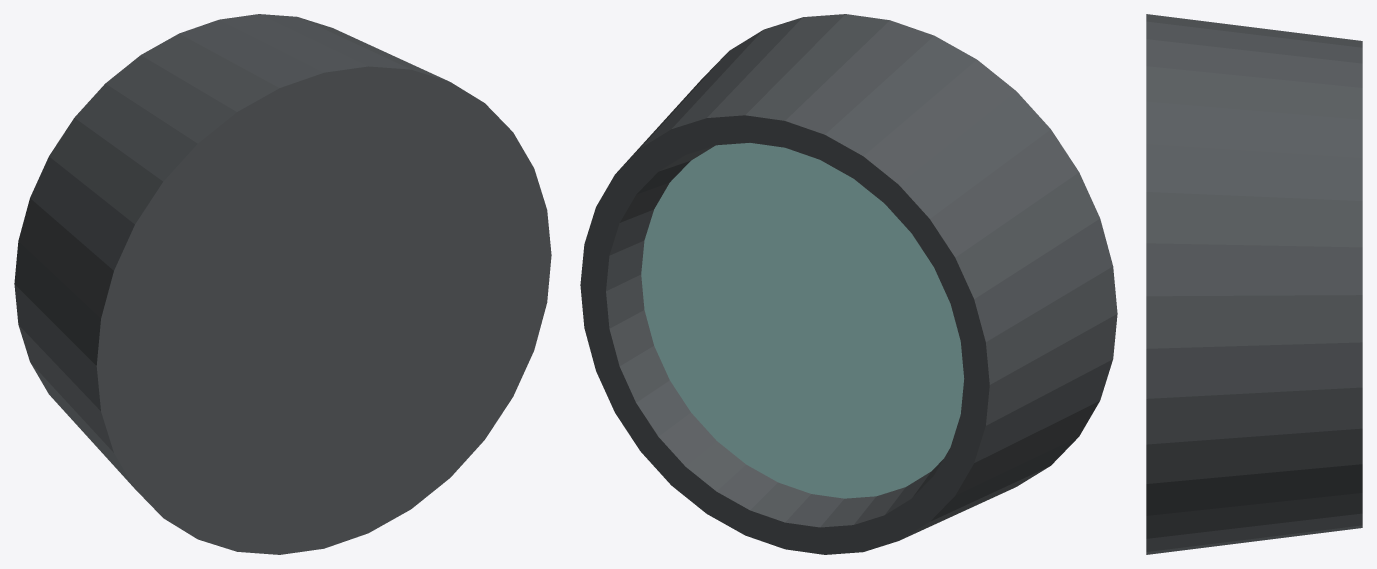
The model's file is AltCamera.fbx.
The picture shows the model from 3 angles, left to right: view 1: azimuth 30°, elevation 25°; view 2: azimuth 150°, elevation 25°; view 3: azimuth 270°, elevation 25°; orthographic projection. The views are drawn at different scales.
Visible parts, largest first — view 1: AltCamera; view 2: AltCamera; view 3: AltCamera.
Part boxes in pixels (<box>): AltCamera: <box>14,14,551,554</box>; AltCamera: <box>580,14,1117,554</box>; AltCamera: <box>1146,14,1362,554</box>.
Size of the model in its own units: 5 by 5 by 2.
